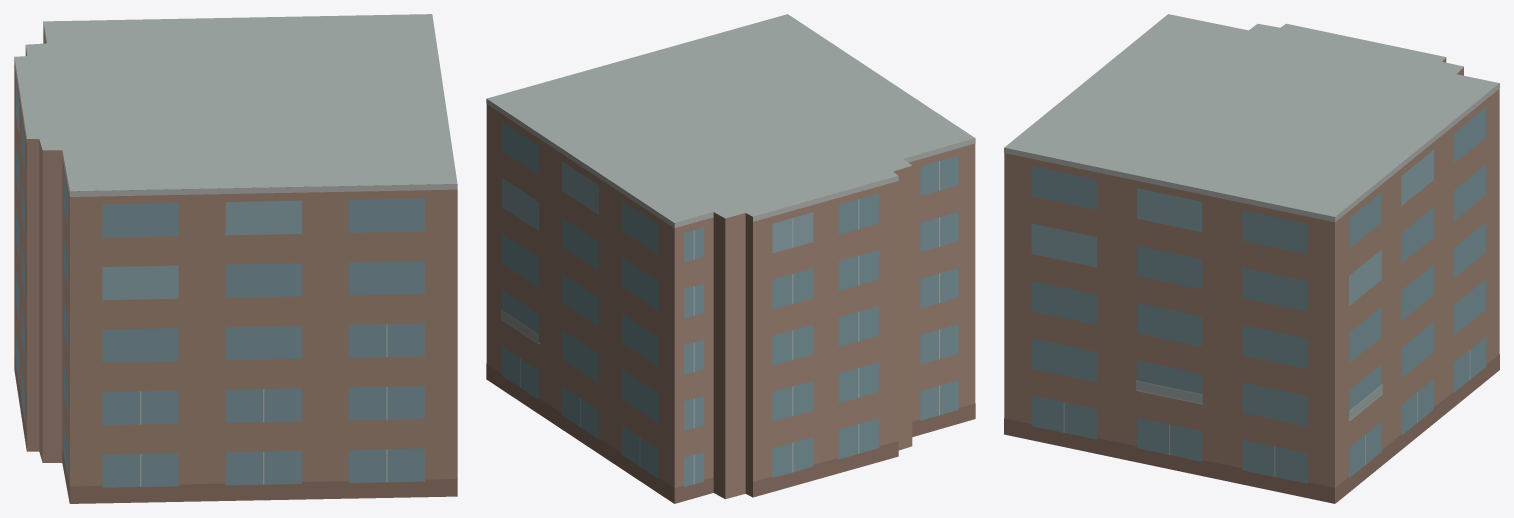
File: survey-upis-33036865.glb
The picture shows the model from 3 angles, left to right: view 1: azimuth 30°, elevation 25°; view 2: azimuth 150°, elevation 25°; view 3: azimuth 270°, elevation 25°; orthographic projection. The views are drawn at different scales.
Visible parts, largest first — view 1: survey-upis-33036865.tmp; view 2: survey-upis-33036865.tmp; view 3: survey-upis-33036865.tmp.
Boxes of the visible parts, x1,y1,x2,y2 form: survey-upis-33036865.tmp: (14, 14, 457, 503); survey-upis-33036865.tmp: (486, 14, 975, 503); survey-upis-33036865.tmp: (1004, 14, 1499, 503).
Bounding box in the file's own units: 20.05 × 13.2 × 20.68.
